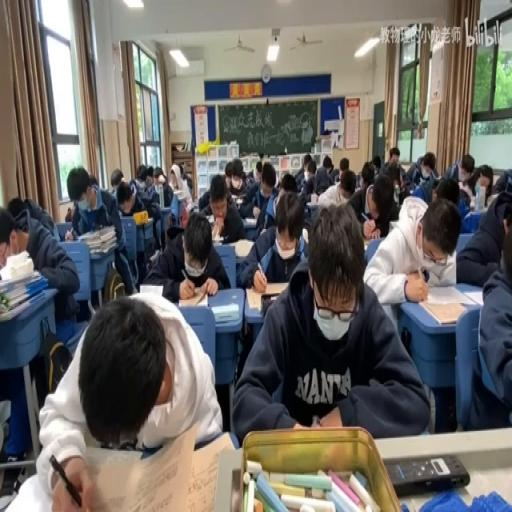calculator: (419, 283, 477, 323), (180, 283, 210, 304), (210, 301, 238, 323), (232, 236, 254, 256), (462, 288, 484, 306), (132, 209, 153, 225), (139, 283, 162, 296), (182, 195, 193, 212), (172, 188, 186, 199), (362, 238, 374, 250), (210, 233, 222, 245), (243, 214, 256, 224), (306, 196, 318, 206), (149, 248, 159, 260), (301, 226, 308, 243), (389, 219, 398, 232), (469, 193, 476, 209), (203, 214, 214, 224)
paper: (232, 204, 426, 442), (35, 287, 221, 512), (1, 199, 80, 329), (66, 166, 132, 299), (144, 208, 228, 302), (455, 178, 512, 287), (197, 166, 249, 236), (245, 165, 280, 236), (345, 166, 383, 228), (306, 155, 335, 196), (147, 165, 174, 206), (410, 150, 438, 188), (382, 161, 405, 205), (471, 162, 494, 205), (433, 176, 461, 206), (489, 168, 510, 196), (6, 195, 27, 222), (278, 170, 297, 194), (336, 155, 350, 185), (242, 156, 258, 180), (460, 155, 474, 181), (117, 190, 132, 212), (230, 165, 244, 188), (109, 166, 122, 190), (486, 192, 504, 209), (135, 164, 147, 188), (294, 168, 307, 190), (458, 184, 470, 206), (138, 184, 155, 199), (222, 161, 232, 186), (371, 154, 382, 172), (389, 146, 399, 164), (302, 154, 312, 172), (184, 174, 192, 194), (330, 168, 340, 183), (178, 162, 186, 179), (322, 158, 332, 171), (88, 174, 98, 186), (64, 208, 72, 220)
person: (384, 452, 468, 494), (259, 292, 279, 316)
